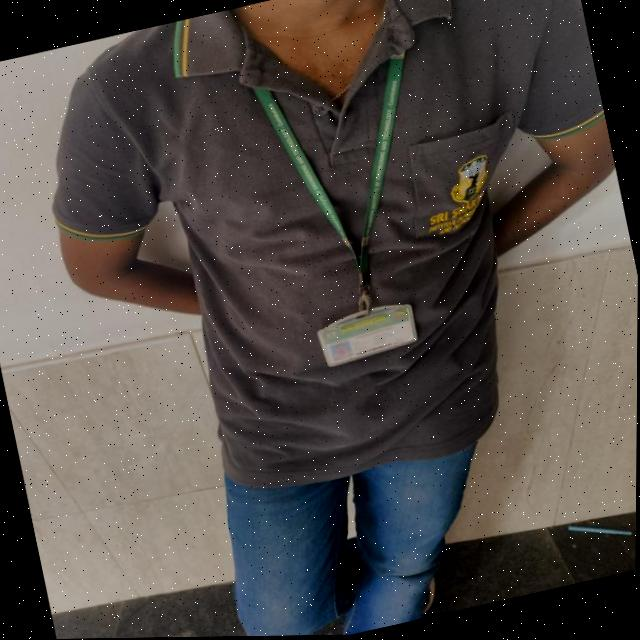id_card: (227, 14, 469, 386)
